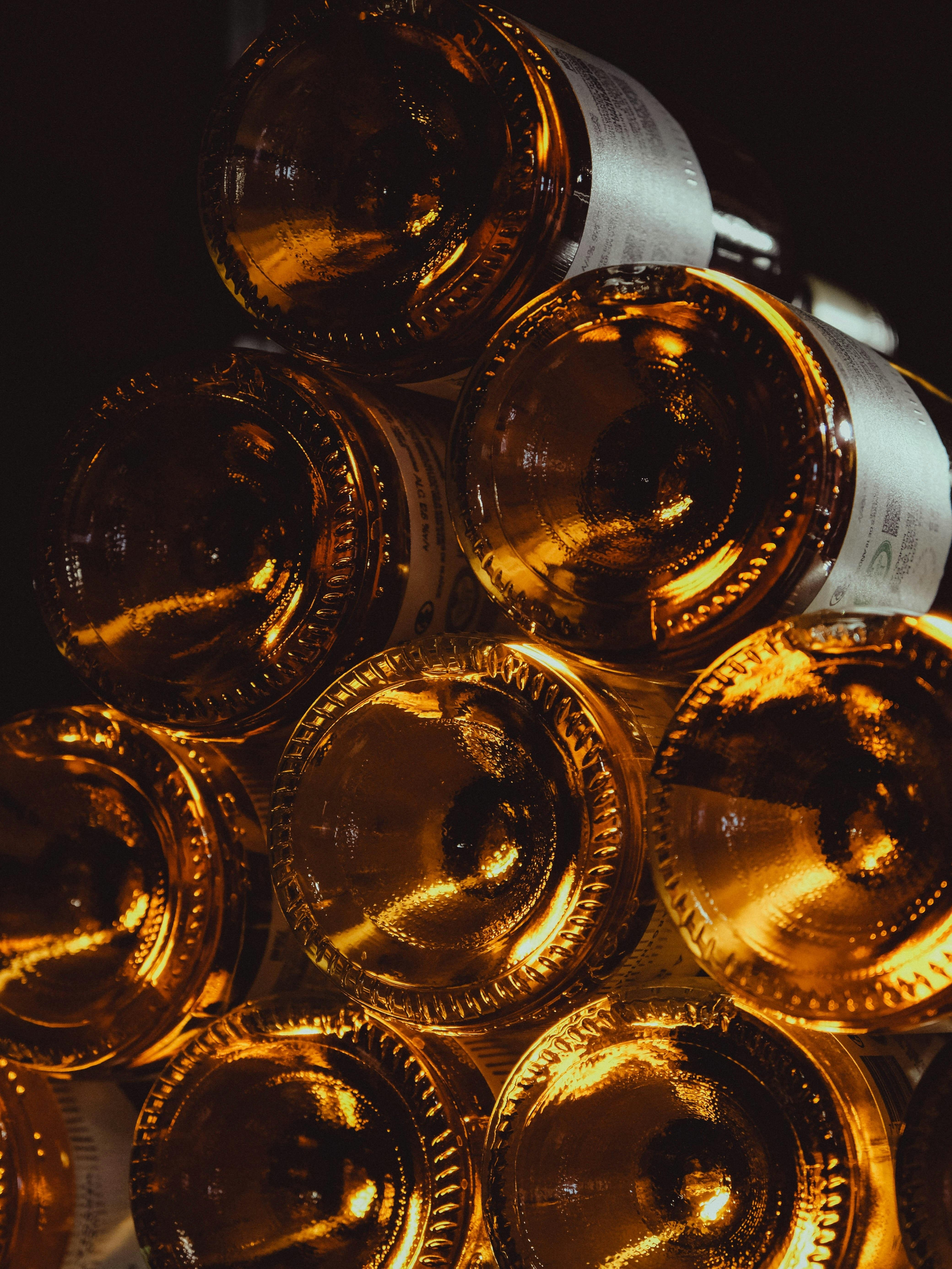Bottle-Detection: (403, 229, 952, 698), (181, 0, 790, 403), (16, 316, 485, 748), (249, 620, 698, 1062), (478, 945, 925, 1269), (643, 593, 952, 1039), (5, 663, 307, 1098), (105, 963, 503, 1263), (0, 1059, 137, 1269)
